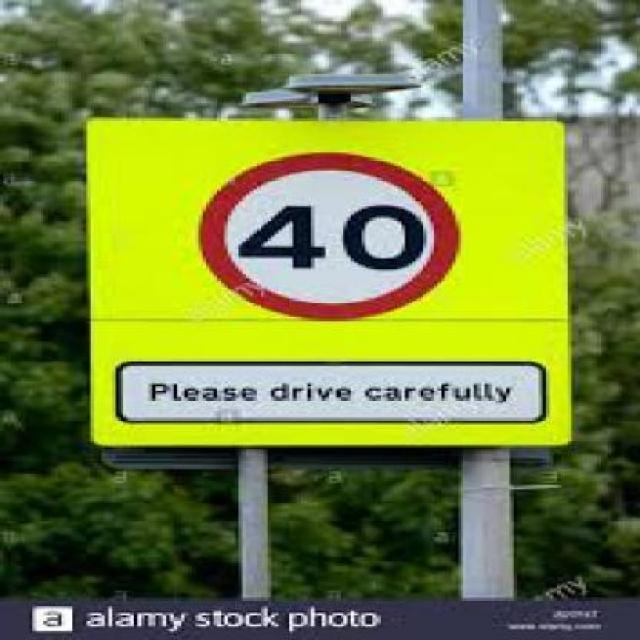forb_speed_over_40: (203, 153, 460, 318)
